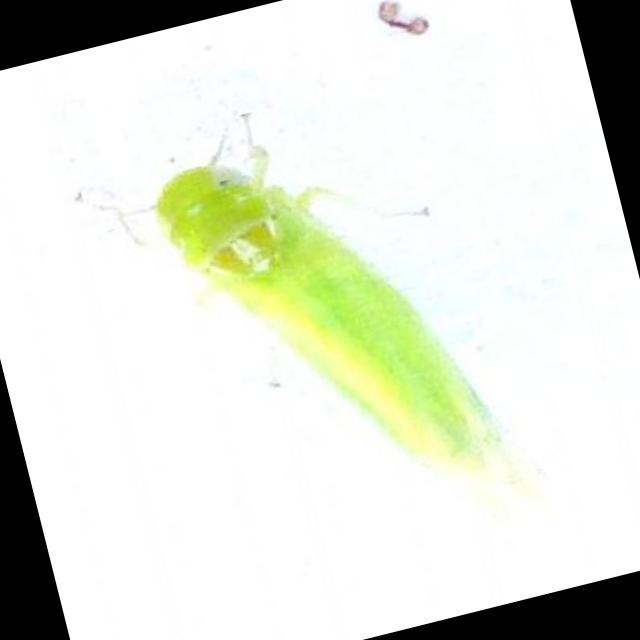green-leafhopper: (136, 102, 513, 542)
